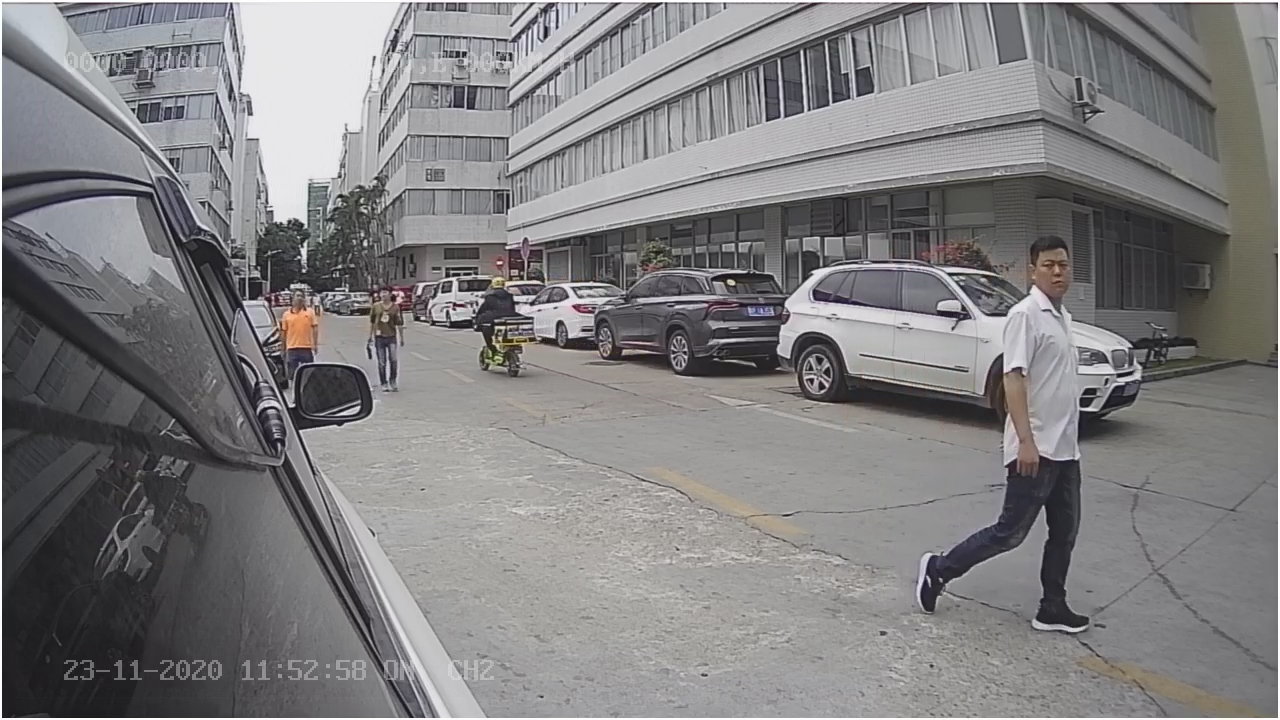person: (996, 236, 1089, 679)
